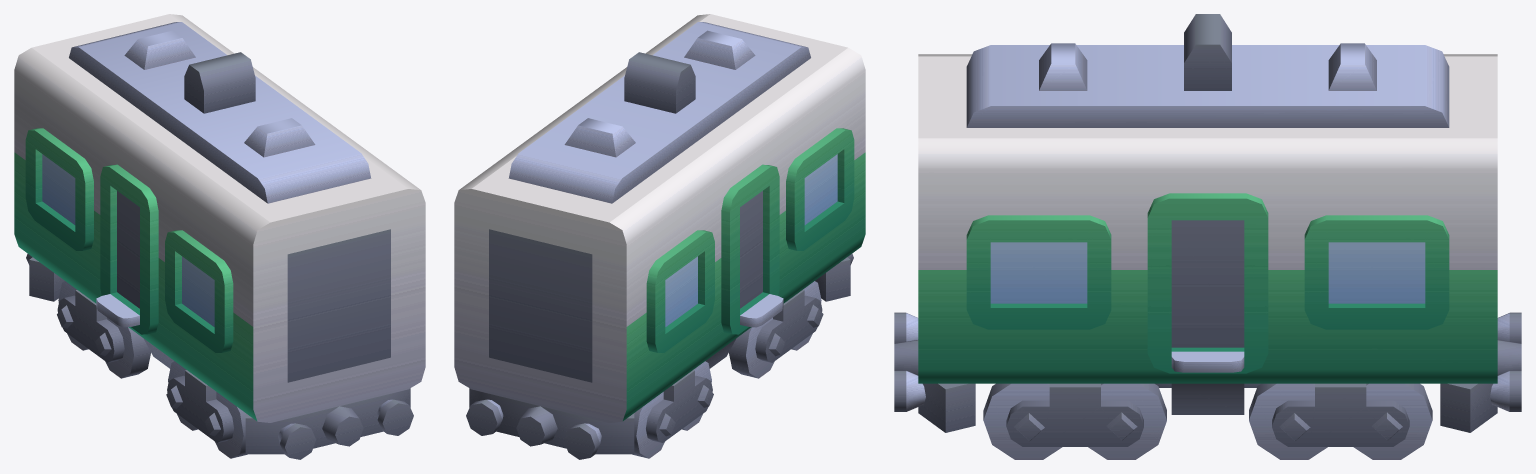
The model's file is train-electric-square-b.glb.
3 views of the same model, side by side, from view 1: azimuth 30°, elevation 25°; view 2: azimuth 150°, elevation 25°; view 3: azimuth 270°, elevation 25° (orthographic). The views are drawn at different scales.
Visible parts, largest first — view 1: train-electric-square-b, wheels-back, wheels-front; view 2: train-electric-square-b, wheels-front, wheels-back; view 3: train-electric-square-b, wheels-back, wheels-front.
Boxes of the visible parts, x1=… form: train-electric-square-b: x1=14, y1=14, x2=425, y2=459; wheels-back: x1=57, y1=281, x2=150, y2=378; wheels-front: x1=166, y1=361, x2=247, y2=458; train-electric-square-b: x1=454, y1=14, x2=865, y2=459; wheels-front: x1=729, y1=281, x2=823, y2=378; wheels-back: x1=632, y1=361, x2=713, y2=458; train-electric-square-b: x1=894, y1=14, x2=1521, y2=432; wheels-back: x1=1249, y1=383, x2=1432, y2=459; wheels-front: x1=983, y1=383, x2=1166, y2=459.
Size of the model in its own units: 1.3 by 1.78 by 2.6.
Materials: 1 (1 with a texture image).
